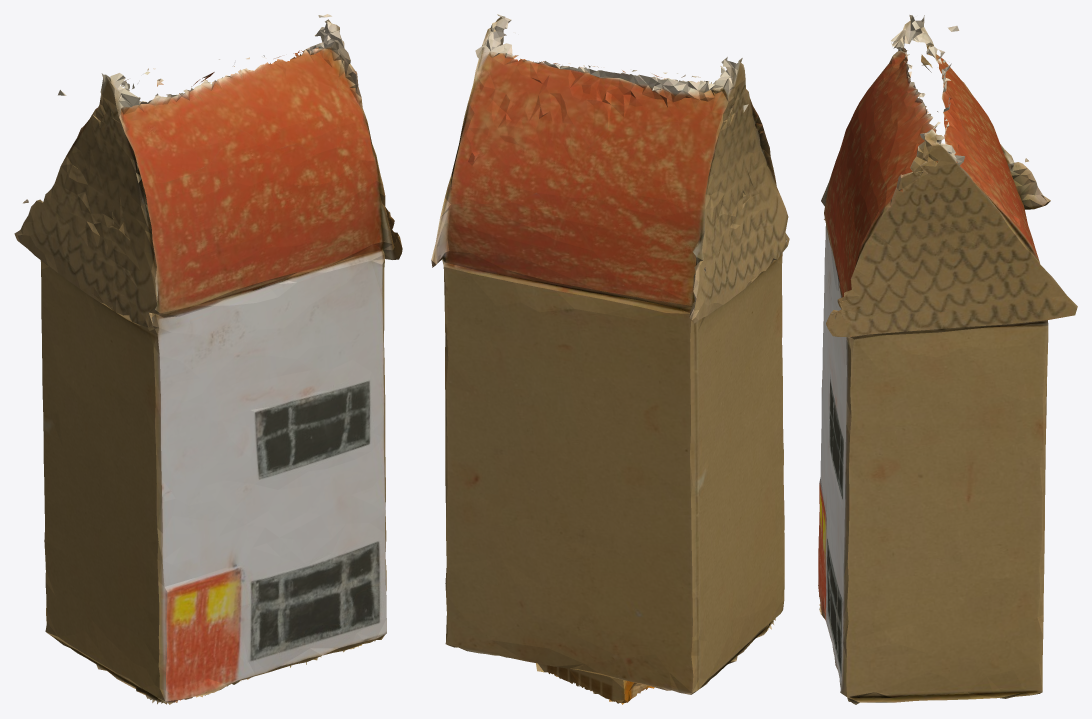
3 renders of one model, left to right at view 1: azimuth 30°, elevation 25°; view 2: azimuth 150°, elevation 25°; view 3: azimuth 270°, elevation 25°, orthographic. The views are drawn at different scales.
Visible parts, largest first — view 1: Object_0.001; view 2: Object_0.001; view 3: Object_0.001.
Boxes of the visible parts, x1,y1,x2,y2 form: Object_0.001: [14, 14, 402, 704]; Object_0.001: [431, 14, 789, 704]; Object_0.001: [818, 15, 1077, 704].
Size of the model in its own units: 9.35 by 20.36 by 7.93.
Materials: 1 (1 with a texture image).
